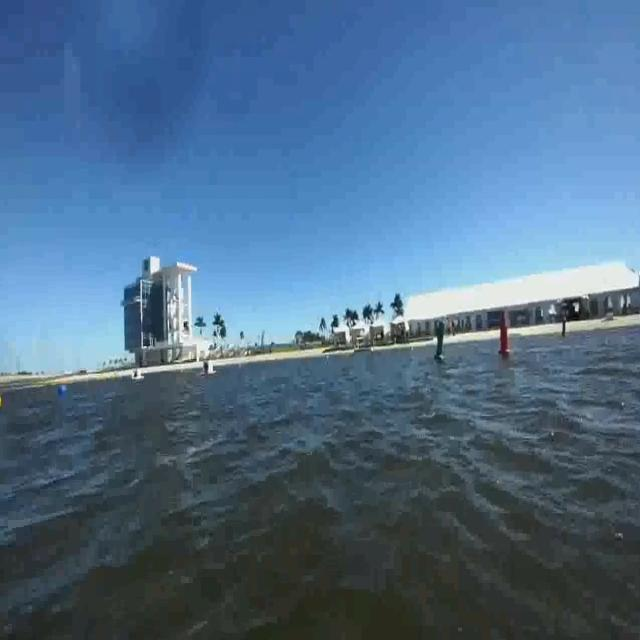blue-buoy: (56, 376, 68, 392)
green-column-buoy: (432, 318, 454, 369)
red-column-buoy: (497, 312, 512, 358)
